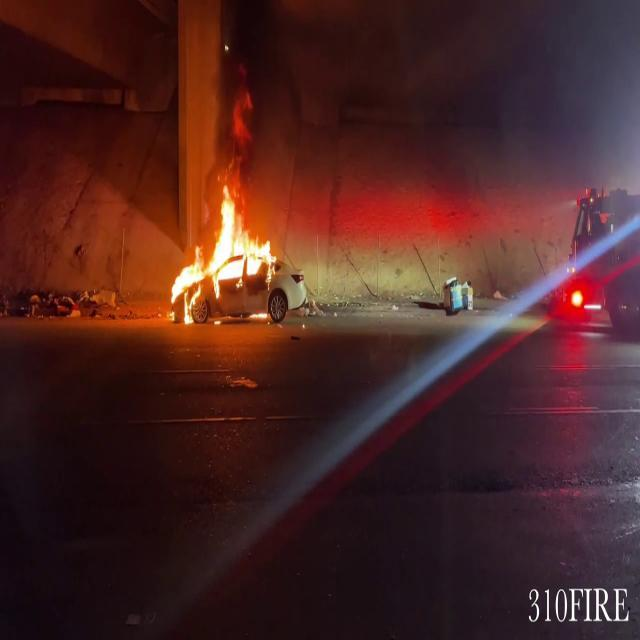Fire: (161, 179, 277, 321)
Smoke: (196, 0, 338, 234)
